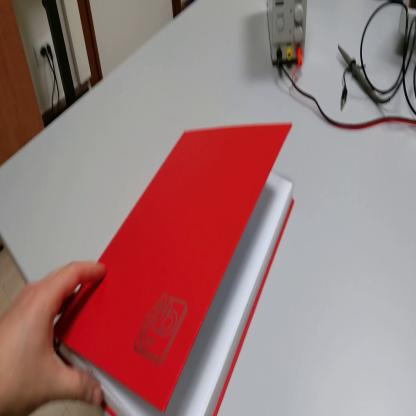hand: (2, 260, 106, 416)
oscilloscope: (396, 2, 416, 67)
oscilloscope probe tip: (338, 42, 379, 106)
power supply: (266, 1, 310, 69)
register: (52, 120, 297, 414)
